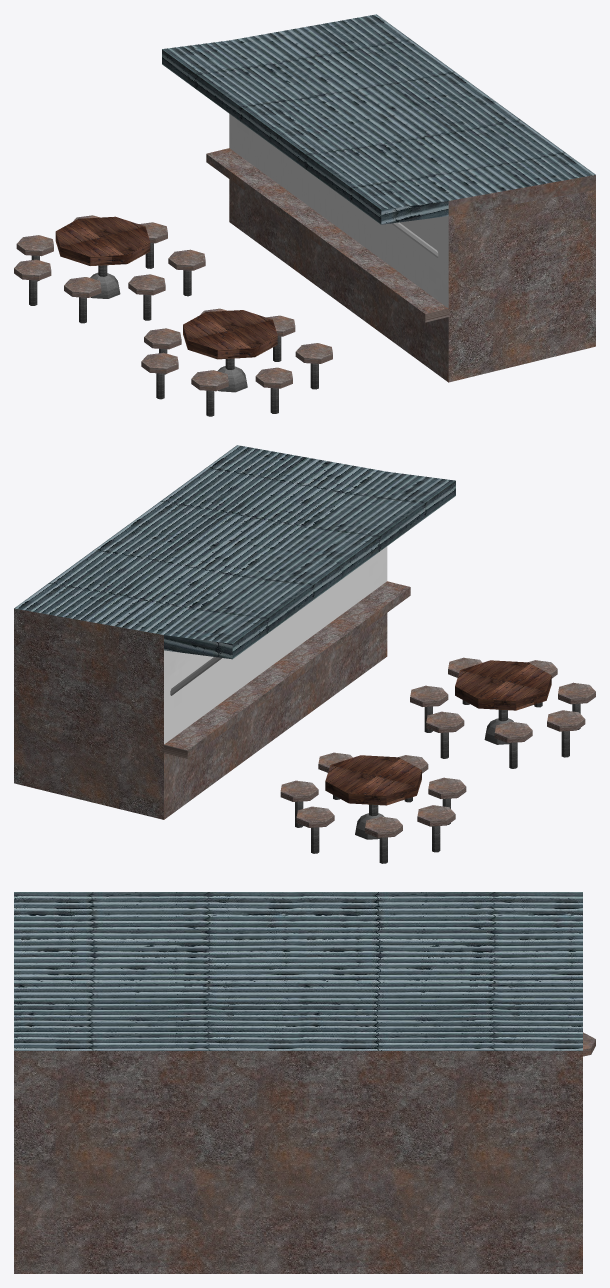
File: Canteen.fbx
3 renders of one model, top to bottom at view 1: azimuth 30°, elevation 25°; view 2: azimuth 150°, elevation 25°; view 3: azimuth 270°, elevation 25°, orthographic. The views are drawn at different scales.
Parts seen in each view (by area): view 1: pCylinder16; view 2: pCylinder16; view 3: pCylinder16.
Part boxes in pixels (bbox=[...]): pCylinder16: bbox=[14, 14, 595, 416]; pCylinder16: bbox=[14, 445, 595, 863]; pCylinder16: bbox=[14, 892, 595, 1273].
Size of the model in its own units: 23.47 by 10.78 by 23.14.
Materials: 7 (6 with a texture image).
